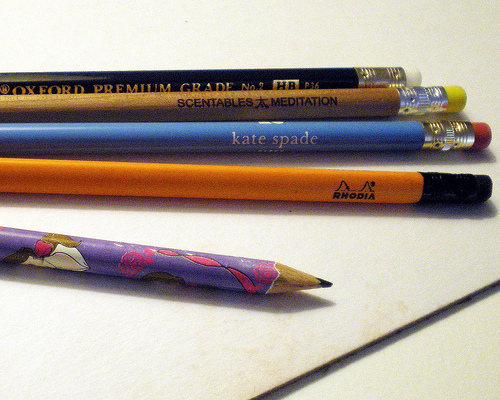pen_tip: (263, 257, 339, 303)
